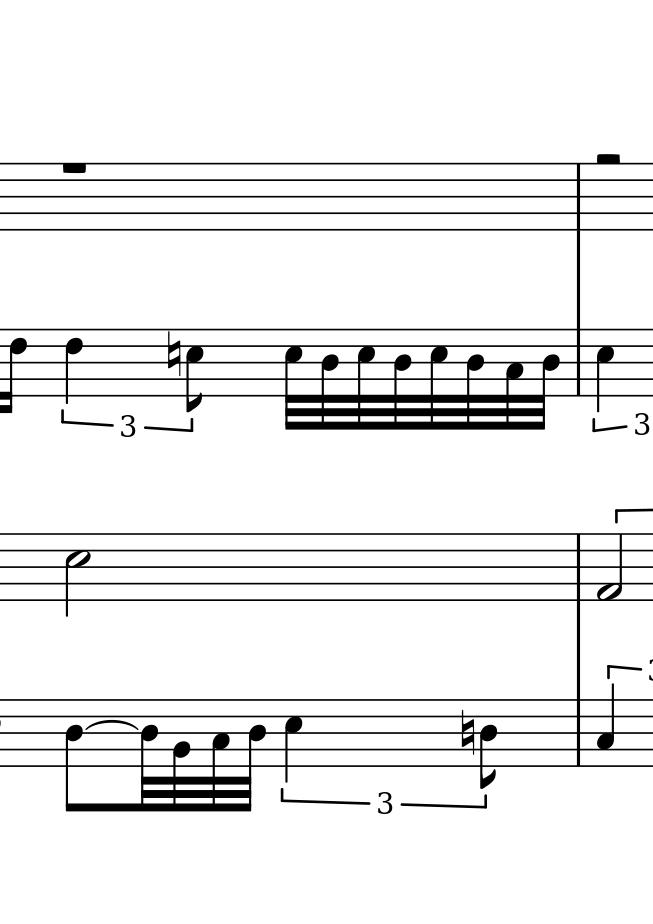16_6: (1, 328, 30, 413)
2_1: (595, 532, 624, 603)
2_5: (65, 531, 90, 617)
32_2: (171, 698, 192, 813)
32_3: (209, 698, 231, 813), (504, 327, 526, 432)
32_4: (238, 697, 267, 815), (534, 327, 562, 433), (138, 699, 159, 813), (391, 327, 413, 433), (464, 327, 486, 433), (320, 328, 340, 432)
32_5: (355, 327, 377, 433), (428, 328, 450, 431), (282, 328, 303, 431)
4_3: (594, 683, 616, 769)
4_5: (594, 328, 615, 415), (284, 698, 304, 783)
4_6: (64, 328, 85, 407)
8_4: (64, 698, 84, 813), (478, 697, 497, 791)
8_5: (184, 327, 206, 412)
Natural: (166, 329, 182, 377), (460, 708, 476, 756)
Rests1: (59, 158, 90, 176)
Rests2: (592, 149, 624, 169)
Single_barline: (569, 329, 588, 397), (570, 533, 587, 600), (570, 700, 586, 766), (570, 164, 586, 230)
Slur: (85, 720, 138, 731)
